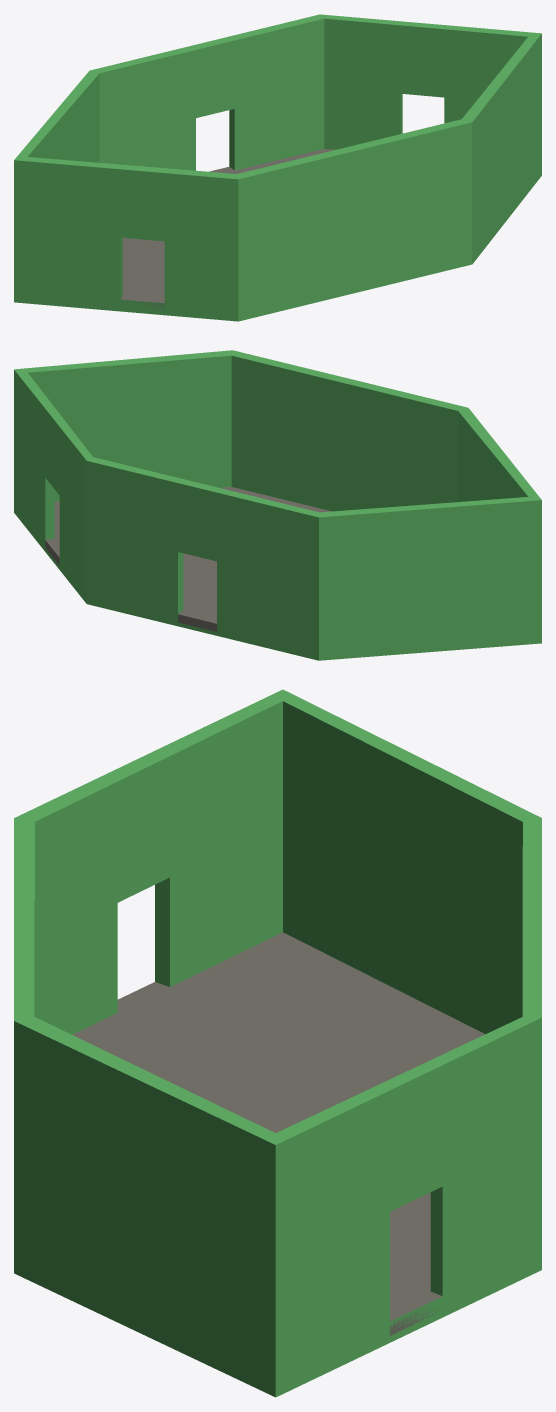
3 views of the same model, one above another, from view 1: azimuth 30°, elevation 25°; view 2: azimuth 150°, elevation 25°; view 3: azimuth 270°, elevation 25° (orthographic). The views are drawn at different scales.
Parts seen in each view (by area): view 1: Sala 6, Sala 6.001; view 2: Sala 6, Sala 6.001; view 3: Sala 6, Sala 6.001.
Boxes of the visible parts, x1,y1,x2,y2 form: Sala 6: (14,14,541,321); Sala 6.001: (120,149,335,310); Sala 6: (14,350,541,660); Sala 6.001: (45,487,331,631); Sala 6: (14,689,541,1397); Sala 6.001: (72,932,485,1335).
Size of the model in its own units: 9375 by 2422 by 4590.
